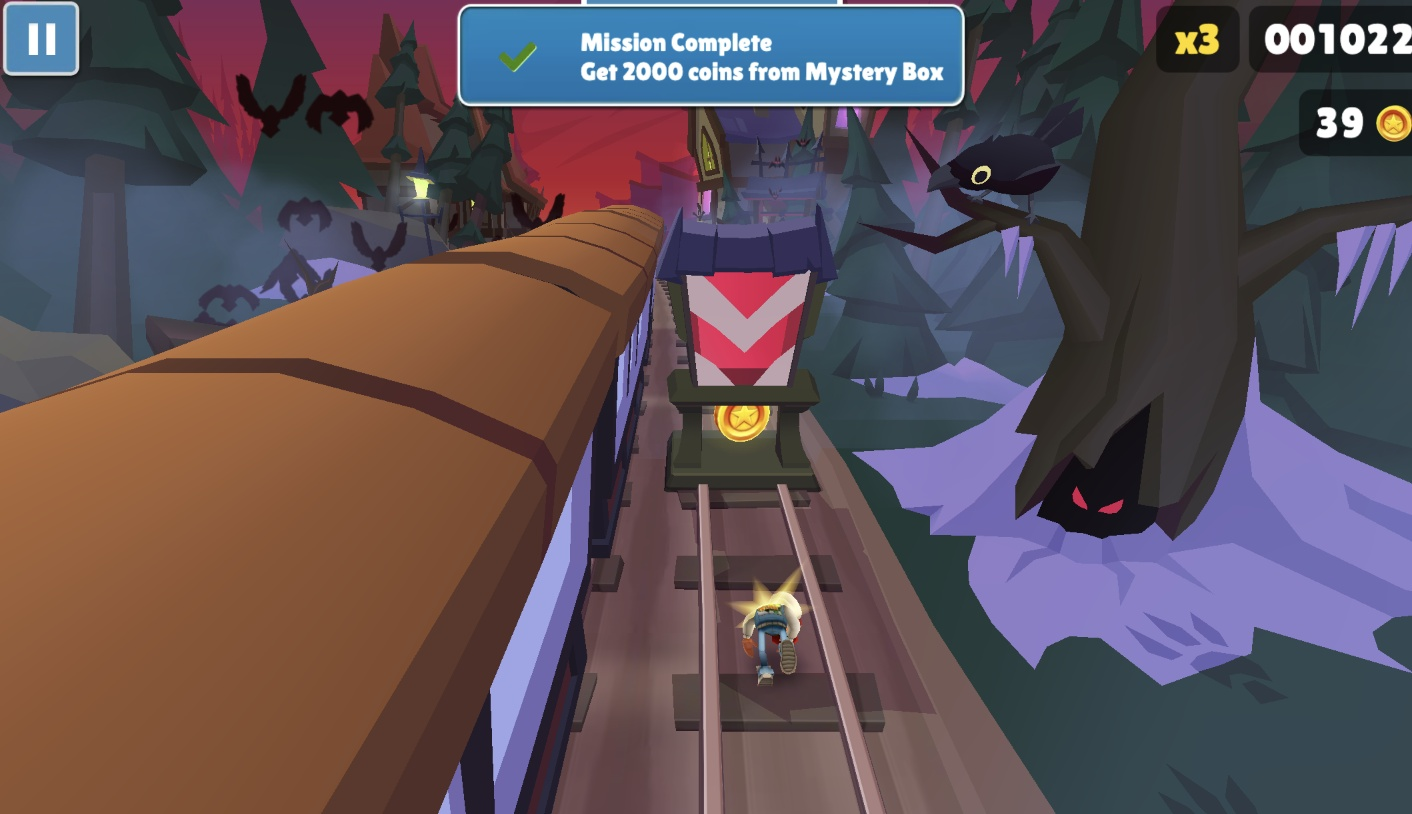overhead_barrier: (655, 208, 840, 494)
train: (0, 205, 665, 814)
